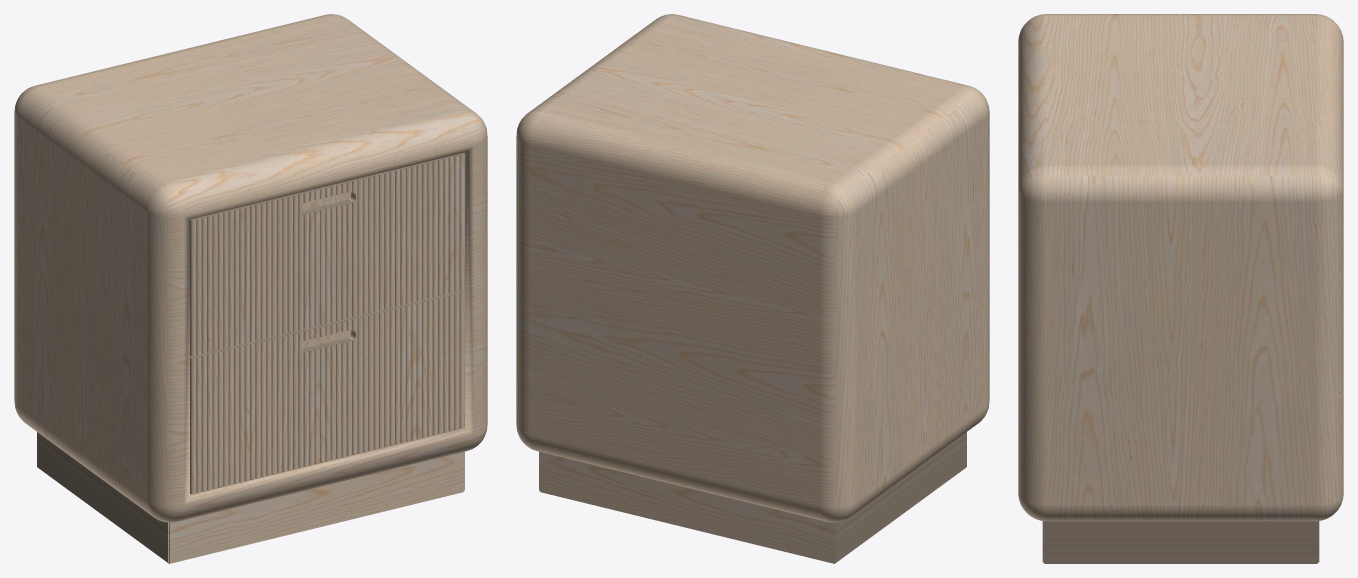
File: fluted-oak-two-drawer-nightstand.glb
3 renders of one model, left to right at view 1: azimuth 30°, elevation 25°; view 2: azimuth 150°, elevation 25°; view 3: azimuth 270°, elevation 25°, orthographic. The views are drawn at different scales.
Visible parts, largest first — view 1: case, front0, front1, plinth; view 2: case, plinth; view 3: case, plinth.
Boxes of the visible parts, x1,y1,x2,y2 form: case: (14, 14, 487, 522); front0: (190, 291, 464, 494); front1: (190, 153, 464, 356); plinth: (37, 432, 464, 563); case: (516, 14, 989, 522); plinth: (539, 432, 966, 563); case: (1018, 14, 1343, 521); plinth: (1042, 521, 1319, 563).
Bounding box in the file's own units: 0.5 × 0.54 × 0.4.
Materials: 2 (2 with a texture image).
